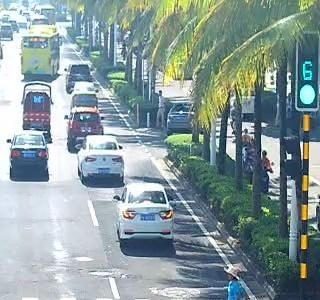greenpeople: (296, 82, 319, 105)
greentime: (300, 60, 318, 82)
